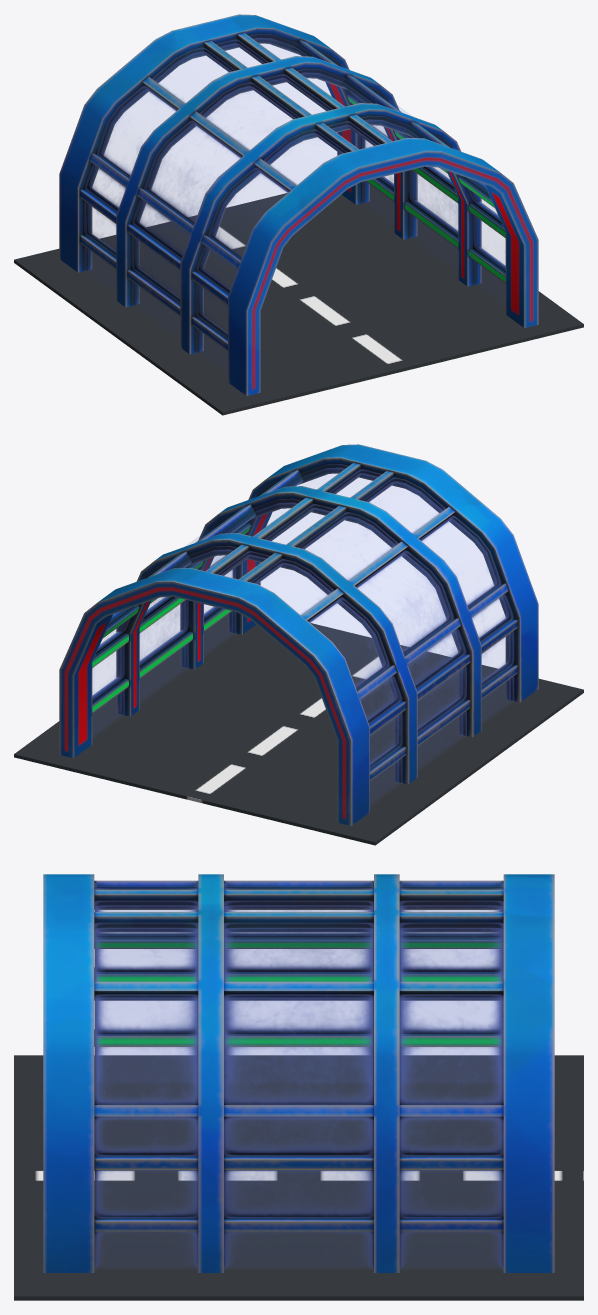
File: kartkids_base_trk_440_tun_closed_exit_1x1.gltf
The picture shows the model from 3 angles, top to bottom: view 1: azimuth 30°, elevation 25°; view 2: azimuth 150°, elevation 25°; view 3: azimuth 270°, elevation 25°; orthographic projection. The views are drawn at different scales.
Parts seen in each view (by area): view 1: kartkids_base_trk_440_tun_closed_exit_1x1.002, kartkids_base_trk_010_rd_straight_1x1.013; view 2: kartkids_base_trk_440_tun_closed_exit_1x1.002, kartkids_base_trk_010_rd_straight_1x1.013; view 3: kartkids_base_trk_440_tun_closed_exit_1x1.002, kartkids_base_trk_010_rd_straight_1x1.013.
Boxes of the visible parts, x1,y1,x2,y2 form: kartkids_base_trk_440_tun_closed_exit_1x1.002: (59,14,538,395); kartkids_base_trk_010_rd_straight_1x1.013: (14,184,583,415); kartkids_base_trk_440_tun_closed_exit_1x1.002: (59,444,538,825); kartkids_base_trk_010_rd_straight_1x1.013: (14,614,583,845); kartkids_base_trk_440_tun_closed_exit_1x1.002: (43,874,554,1272); kartkids_base_trk_010_rd_straight_1x1.013: (14,1055,583,1300).
Size of the model in its own units: 10 by 5.39 by 10.
Materials: 2 (2 with a texture image).
